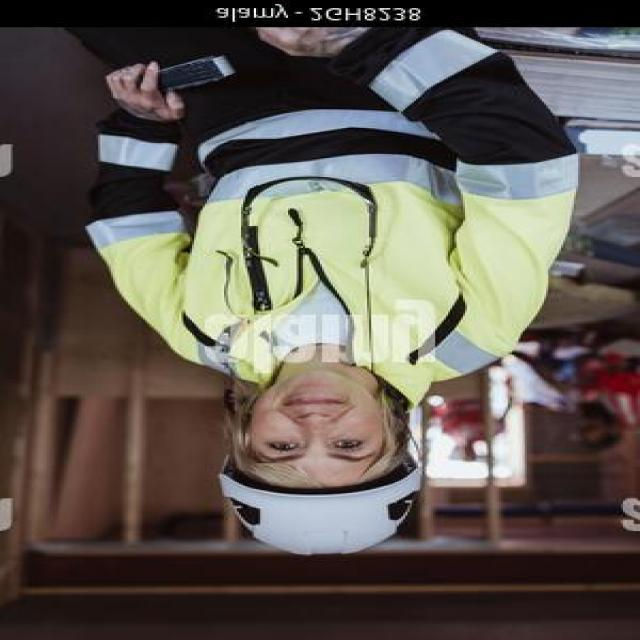safetyhelmet: (215, 376, 429, 564)
